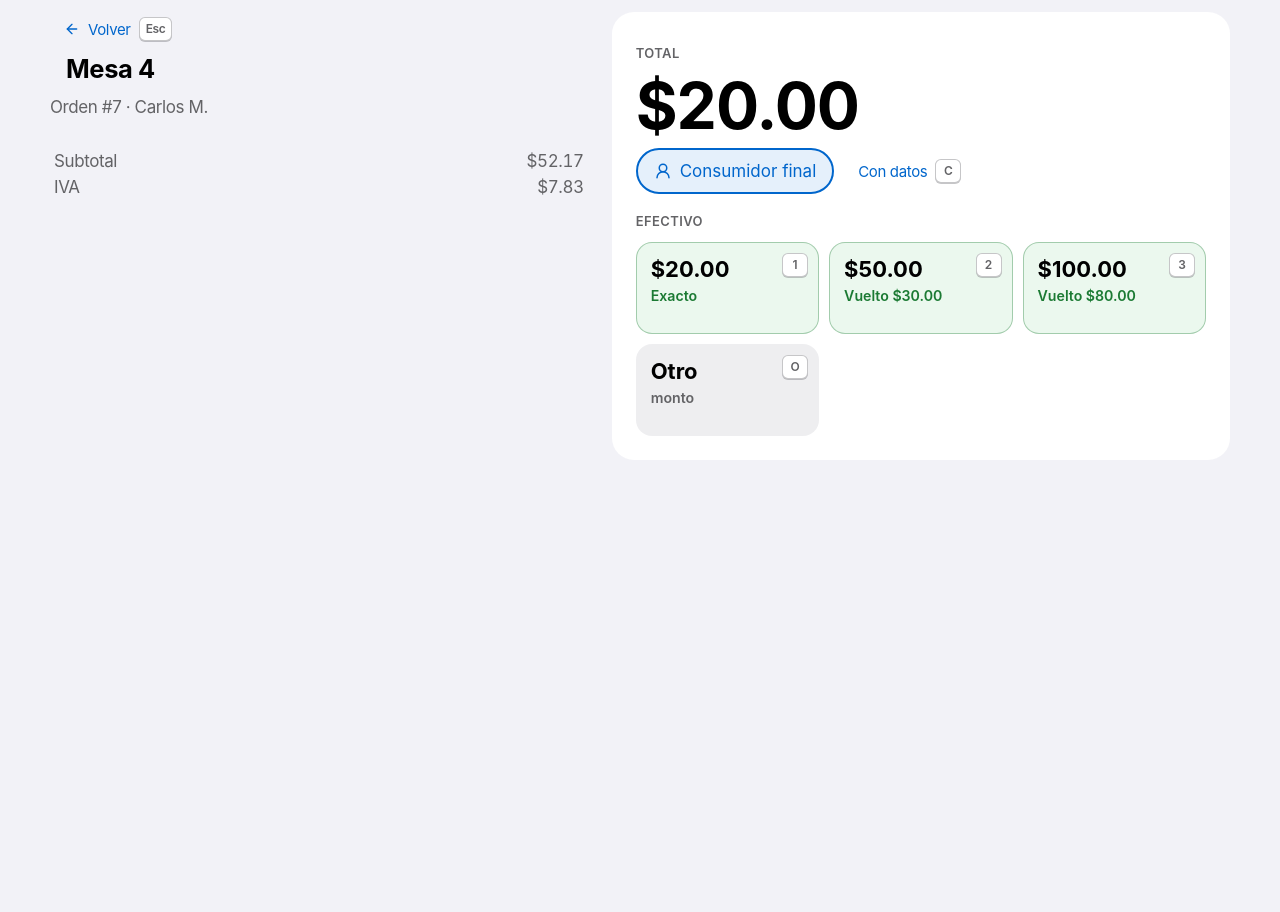
cobro con datos del comprador › cliente nuevo: formulario mínimo y el consentimiento empieza sin marcar
Expected: the button with test id "billete-20.00" is enabled, [636,242,819,334]
Click the button with test id "con-datos": (910, 171) [844,154,975,188]
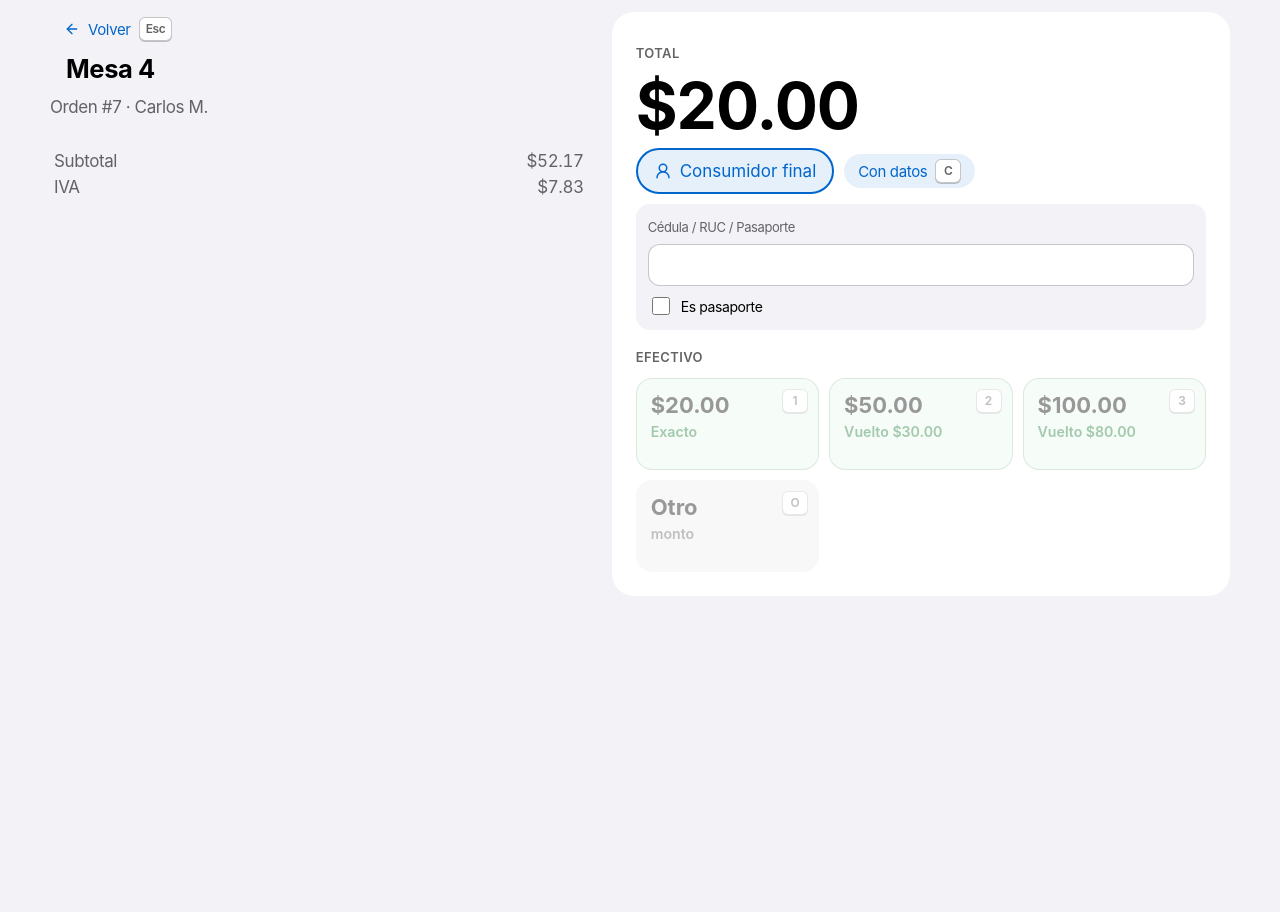
In the field with test id "identificacion": (921, 265) [648,244,1194,286], type "1790011674001"
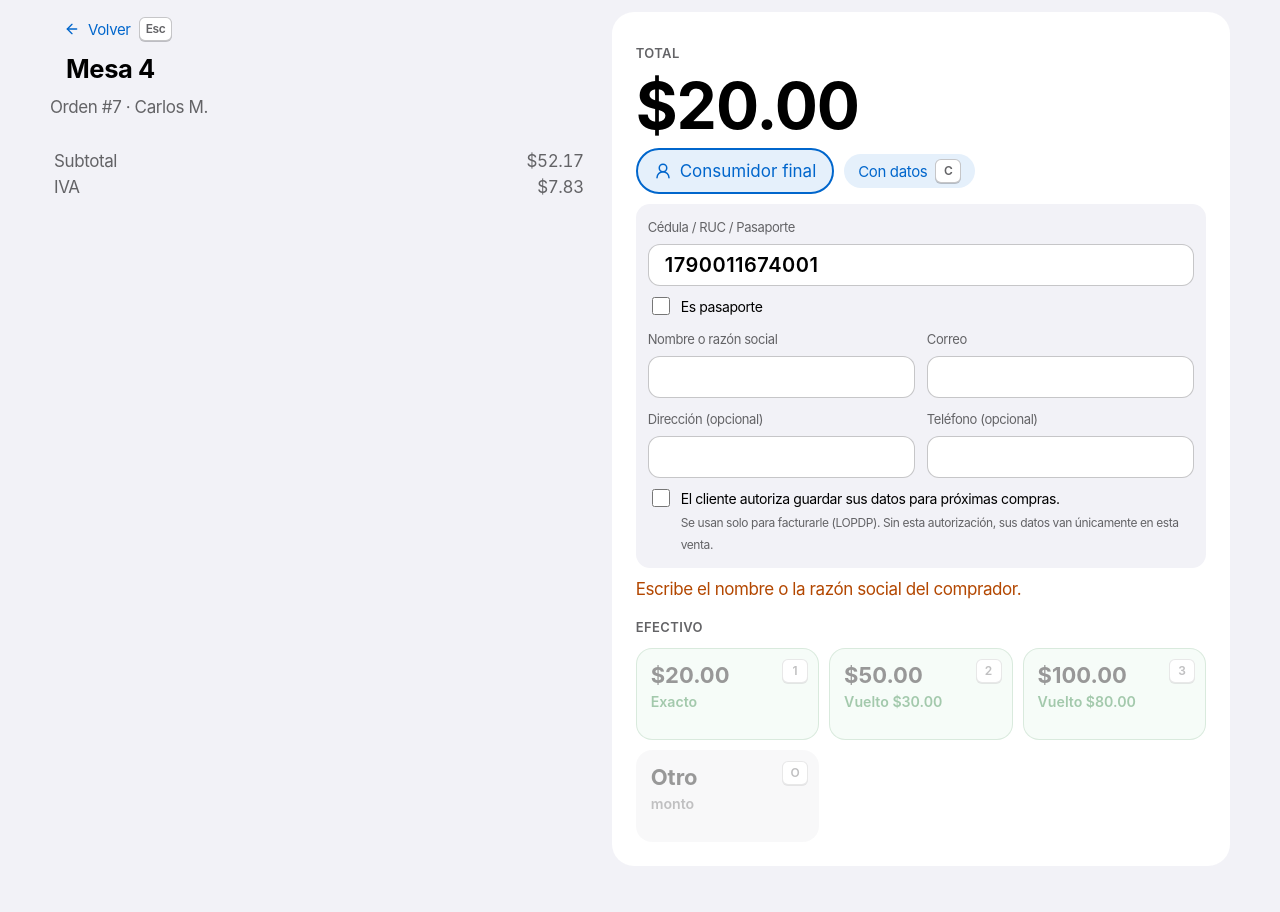
Expected: the button with test id "billete-20.00" is disabled, [636,648,819,740]
Expected: the field with test id "razon-social" is shown
Expected: the checkbox with test id "consentimiento" is not checked, [652,489,670,507]
In the field with test id "razon-social": (781, 377) [648,356,915,398], type "Empresa S.A."
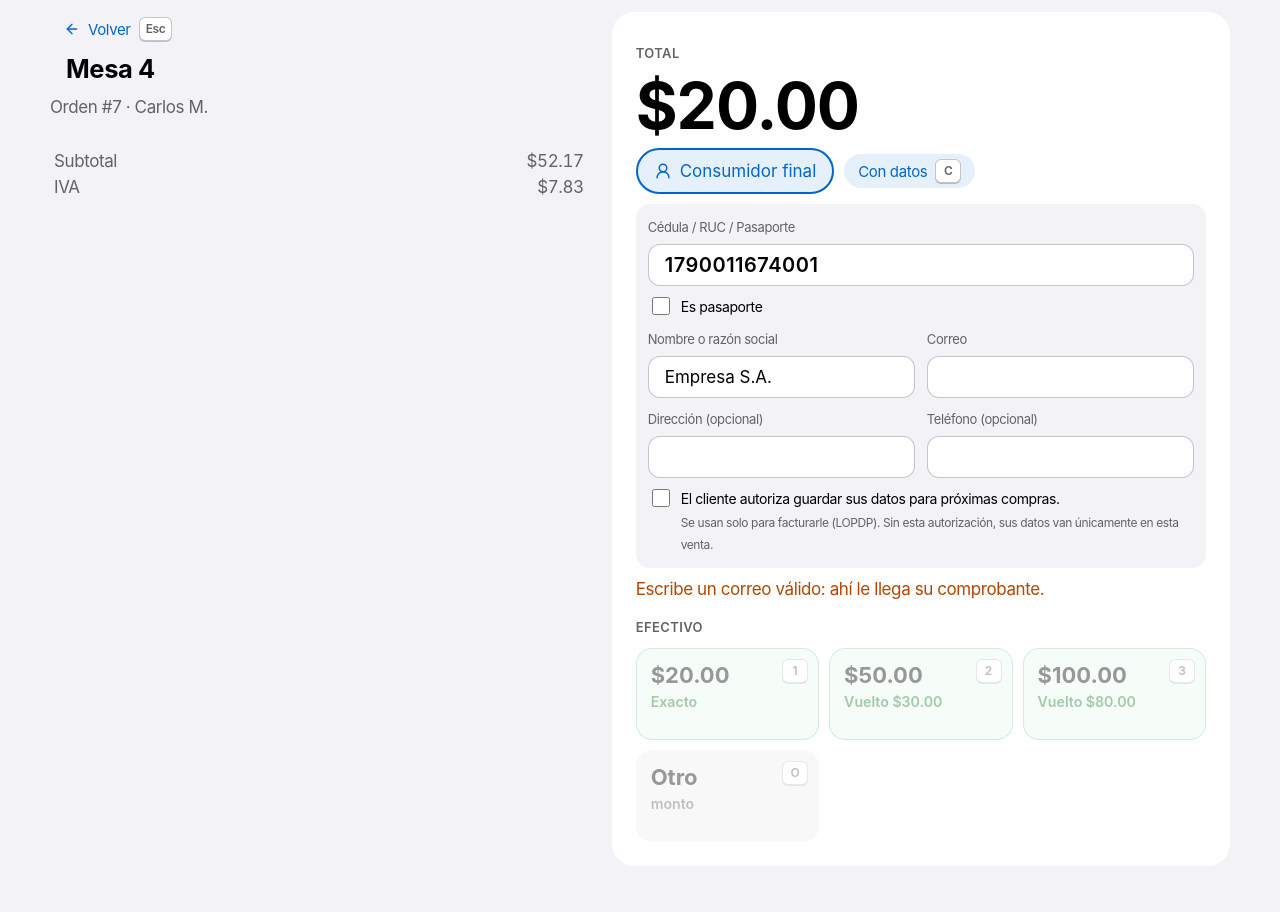
In the field with test id "email": (1060, 377) [927,356,1194,398], type "compras@empresa.ec"
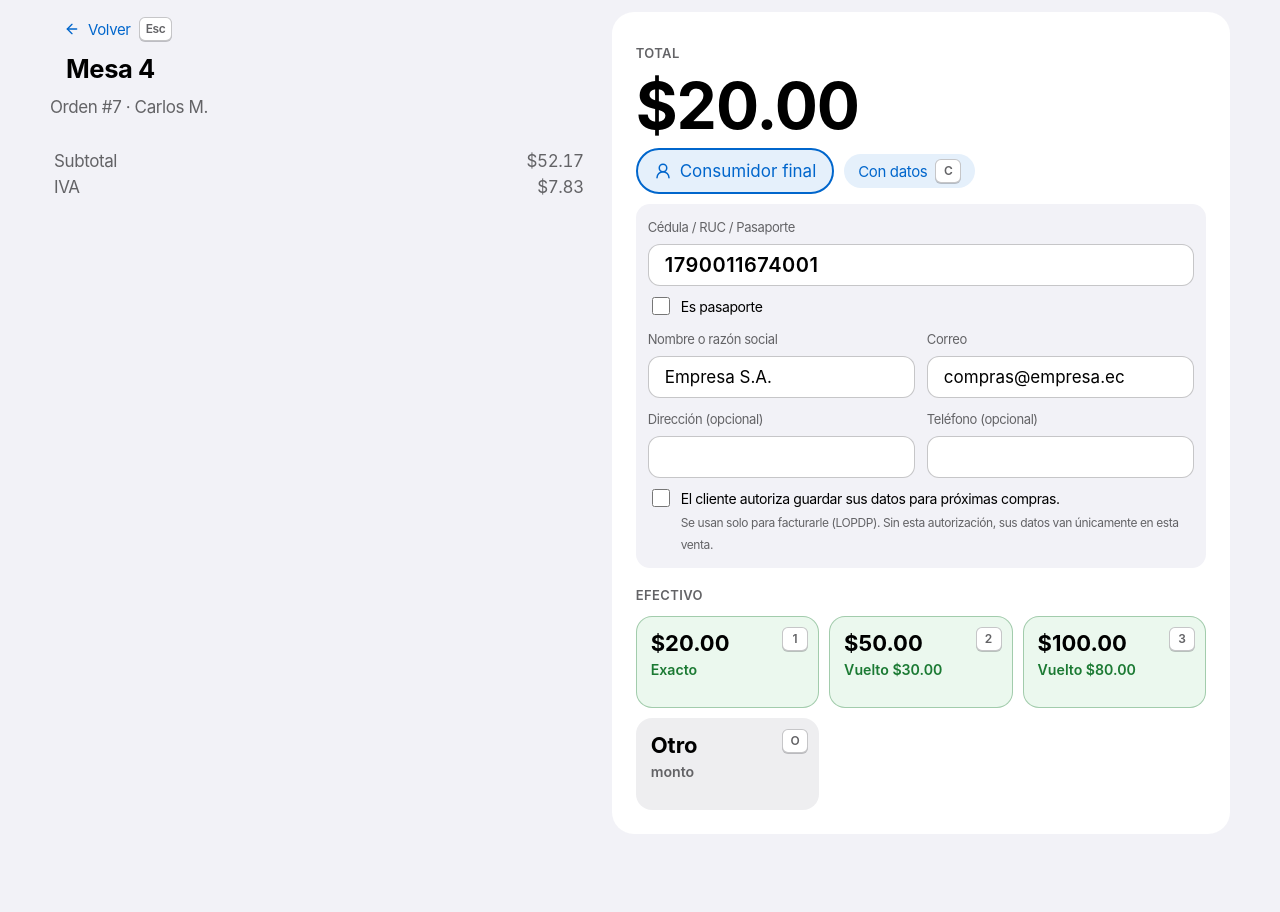
Expected: the button with test id "billete-20.00" is enabled, [636,616,819,708]
